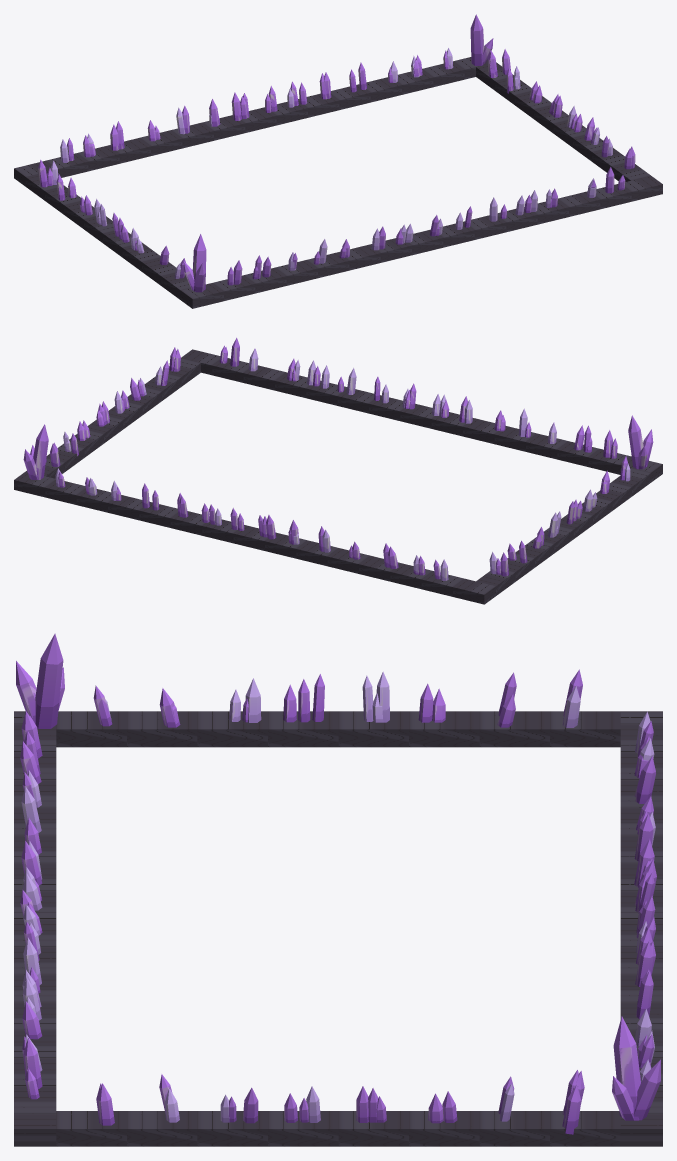
The model's file is Rim_Crystal.fbx.
The picture shows the model from 3 angles, top to bottom: view 1: azimuth 30°, elevation 25°; view 2: azimuth 150°, elevation 25°; view 3: azimuth 270°, elevation 25°; orthographic projection. The views are drawn at different scales.
Visible parts, largest first — view 1: Rim_Crystal; view 2: Rim_Crystal; view 3: Rim_Crystal.
Boxes of the visible parts, x1,y1,x2,y2 form: Rim_Crystal: (14, 14, 662, 308); Rim_Crystal: (14, 337, 662, 604); Rim_Crystal: (14, 633, 662, 1146).
Size of the model in its own units: 3.5 by 0.4439 by 2.3.
1 material, 1 textured.
